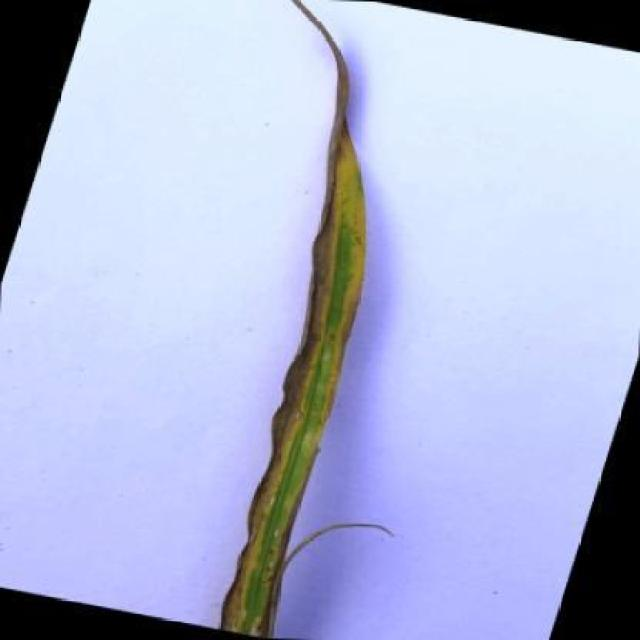Rice False Smut: (216, 116, 381, 638), (183, 0, 392, 114)
